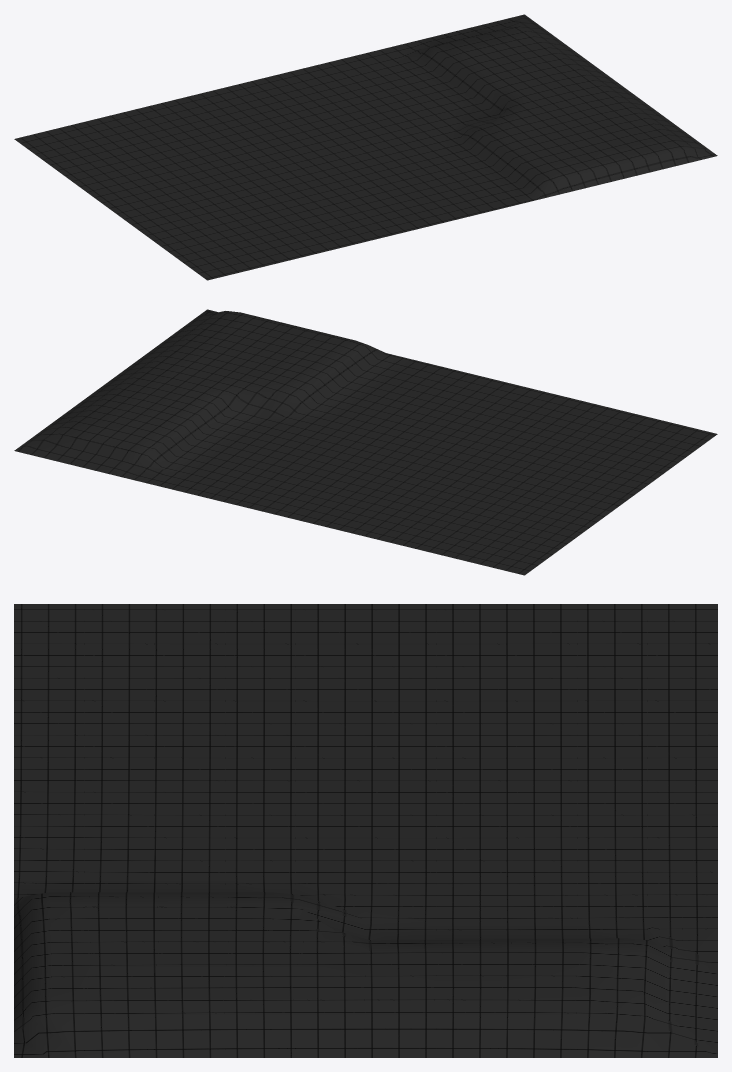
File: TerrainBlack_Art.fbx
3 renders of one model, top to bottom at view 1: azimuth 30°, elevation 25°; view 2: azimuth 150°, elevation 25°; view 3: azimuth 270°, elevation 25°, orthographic. The views are drawn at different scales.
Visible parts, largest first — view 1: TerrainBlack_Art; view 2: TerrainBlack_Art; view 3: TerrainBlack_Art.
Part boxes in pixels (left/top/right/bottom): TerrainBlack_Art: left=14, top=14, right=717, bottom=280; TerrainBlack_Art: left=14, top=309, right=717, bottom=575; TerrainBlack_Art: left=14, top=604, right=717, bottom=1057.
Bounding box in the file's own units: 98.88 × 2.08 × 64.84.
